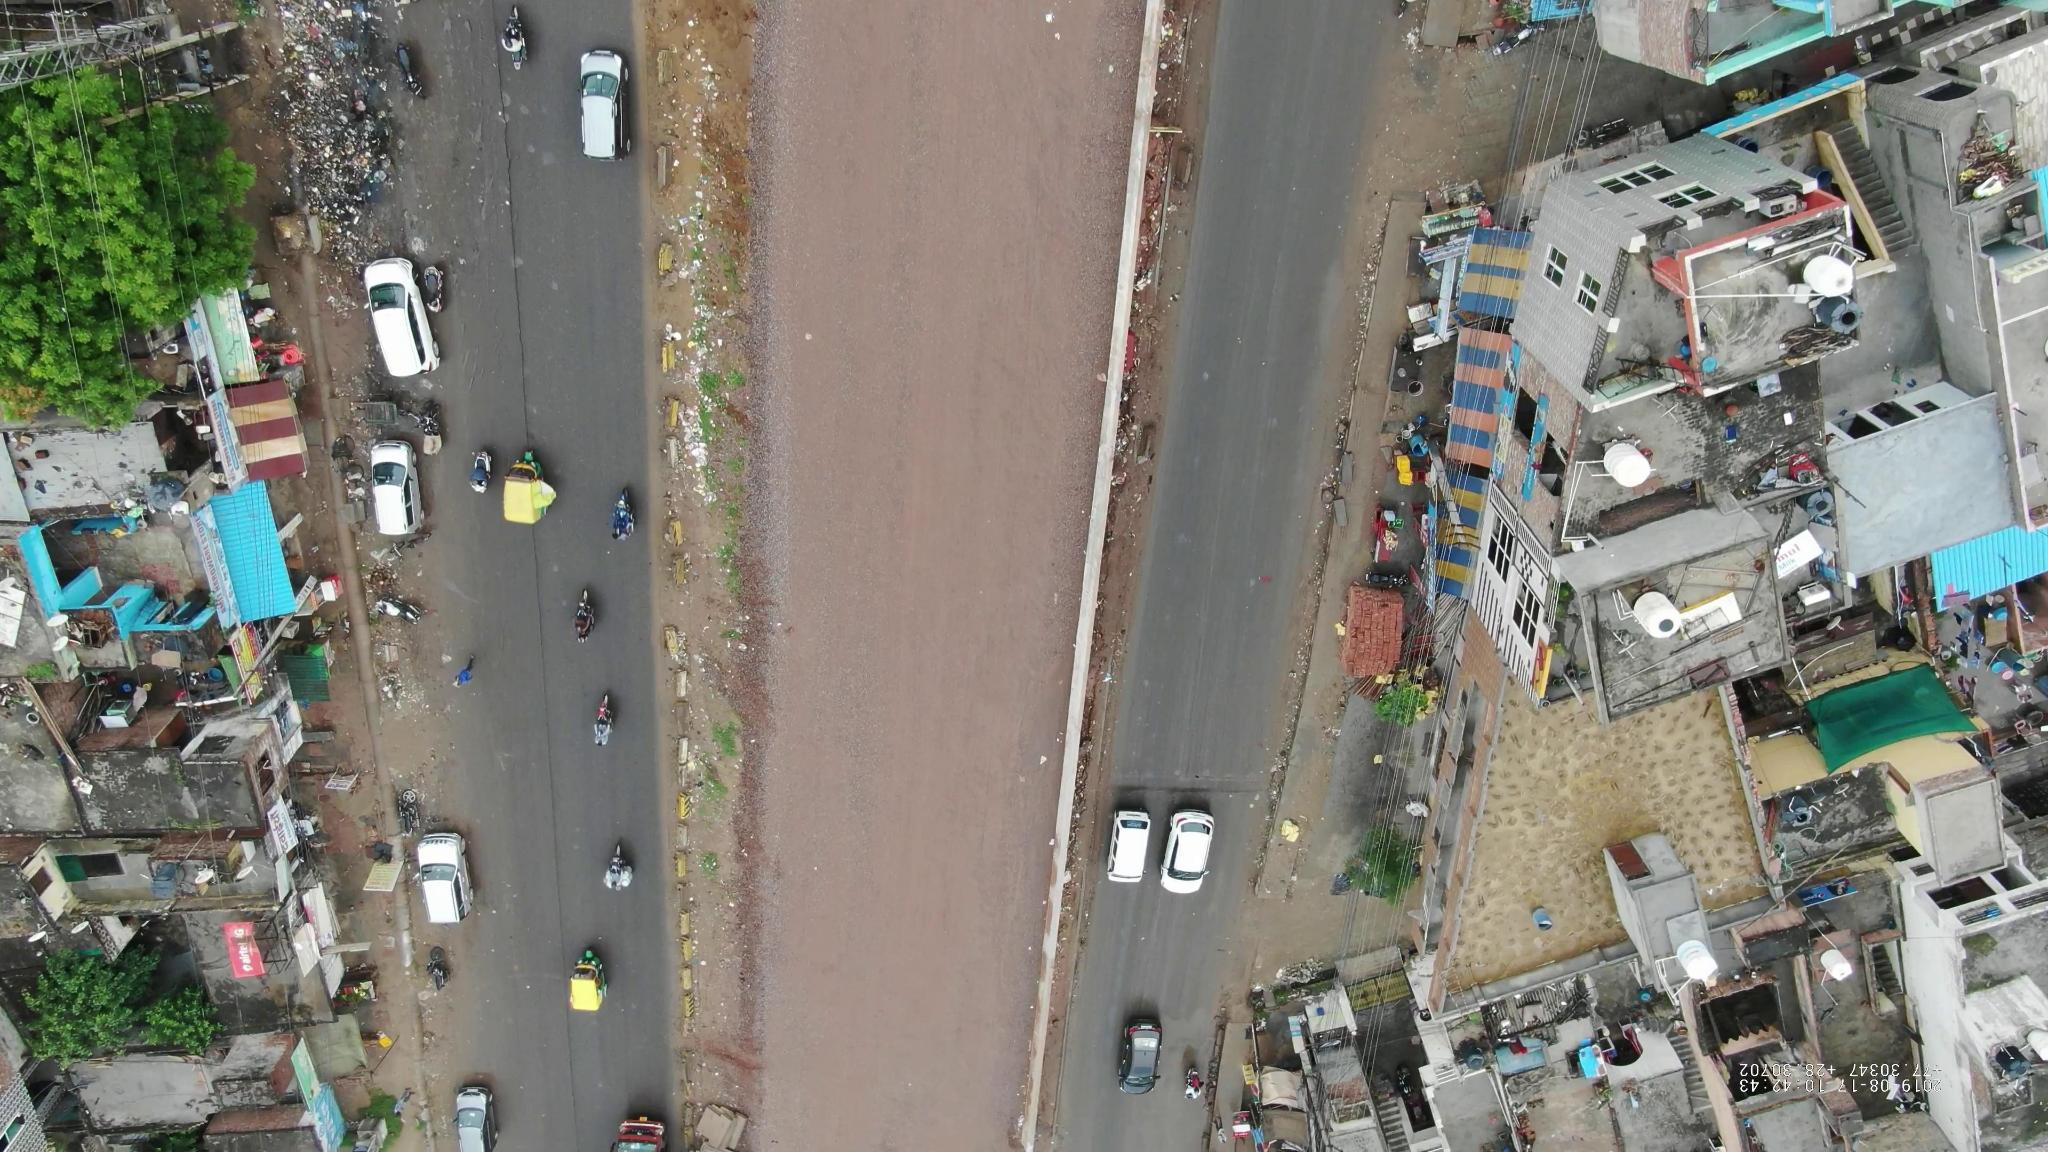Road_side_garbage: (281, 3, 388, 205)
